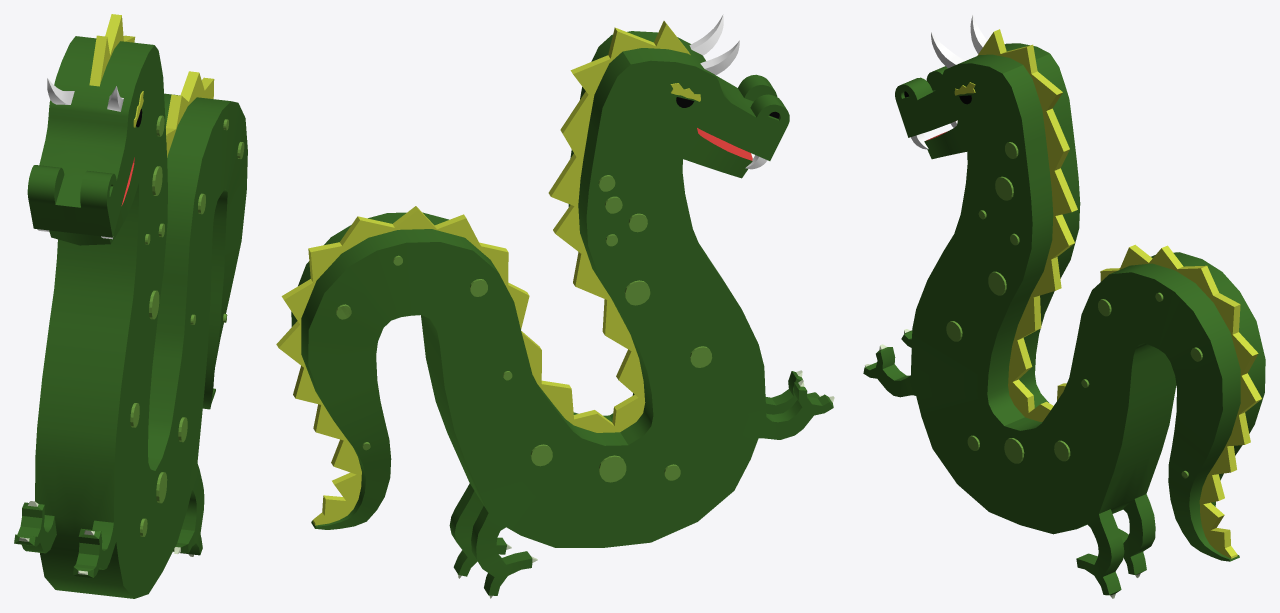
Rendered from dragon.glb.
3 renders of one model, left to right at view 1: azimuth 30°, elevation 25°; view 2: azimuth 150°, elevation 25°; view 3: azimuth 270°, elevation 25°, orthographic. The views are drawn at different scales.
Visible parts, largest first — view 1: Cube.091; view 2: Cube.091; view 3: Cube.091.
Boxes of the visible parts, x1,y1,x2,y2 form: Cube.091: [14, 14, 247, 598]; Cube.091: [276, 14, 834, 598]; Cube.091: [863, 14, 1265, 598].
Bounding box in the file's own units: 1.63 × 2.26 × 1.64.
1 material, 1 textured.
